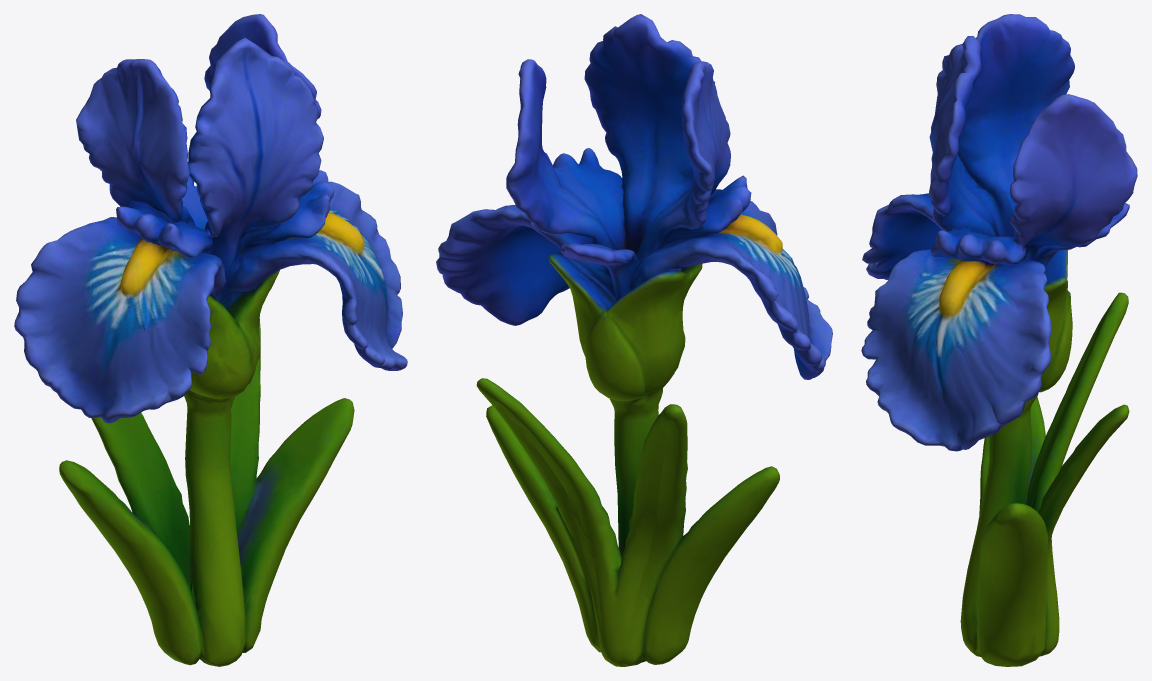
Rendered from iris_s5.glb.
3 views of the same model, side by side, from view 1: azimuth 30°, elevation 25°; view 2: azimuth 150°, elevation 25°; view 3: azimuth 270°, elevation 25° (orthographic).
Bounding box in the file's own units: 0.6277 × 1 × 0.4013.
Materials: 1 (1 with a texture image).
